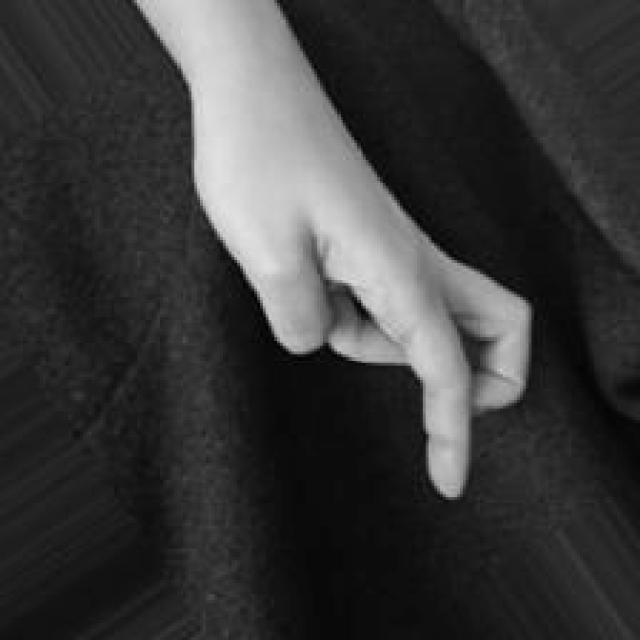P: (183, 68, 550, 520)
